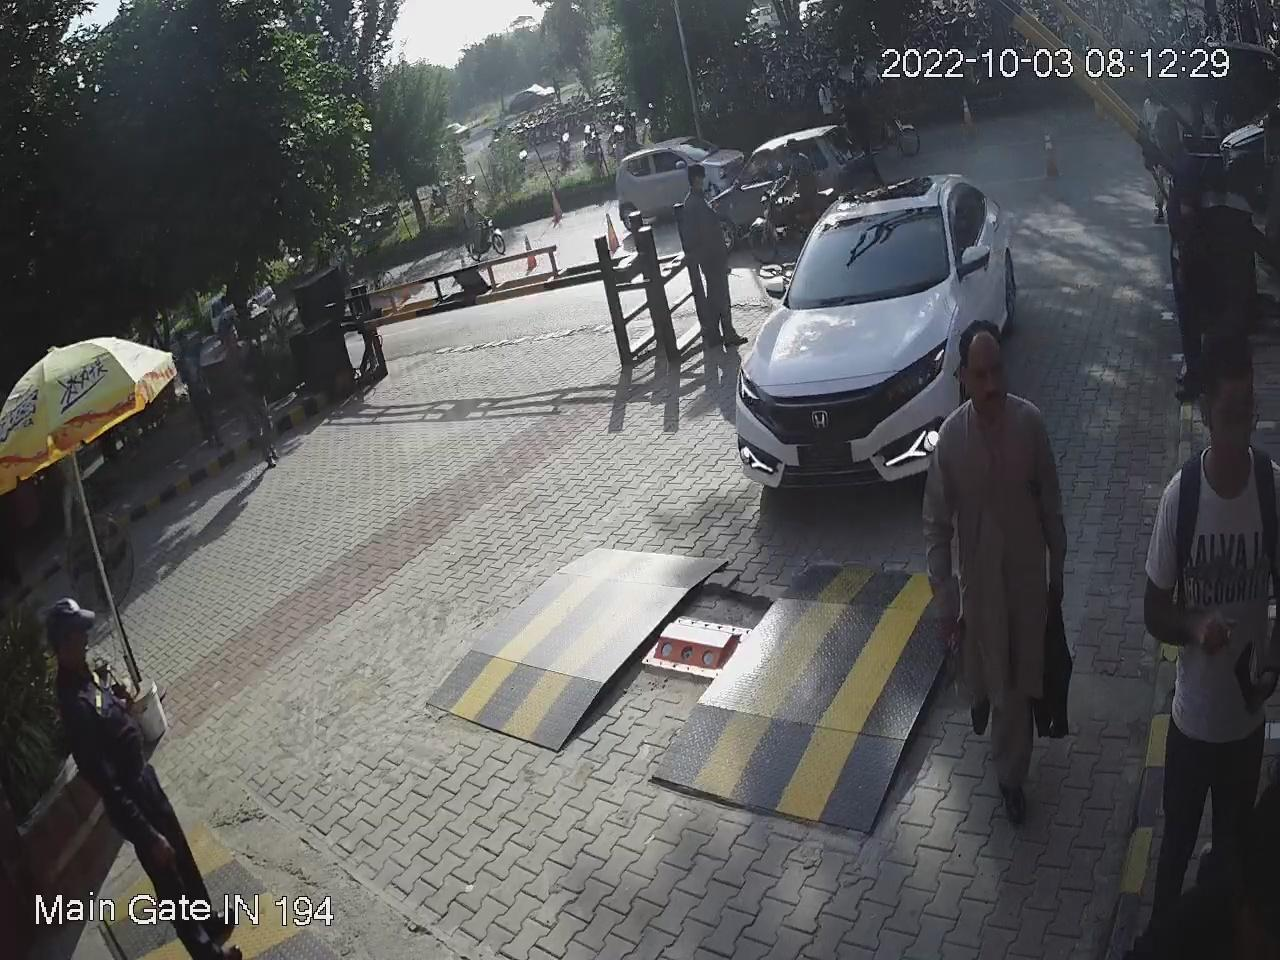windshield: (783, 200, 955, 301)
